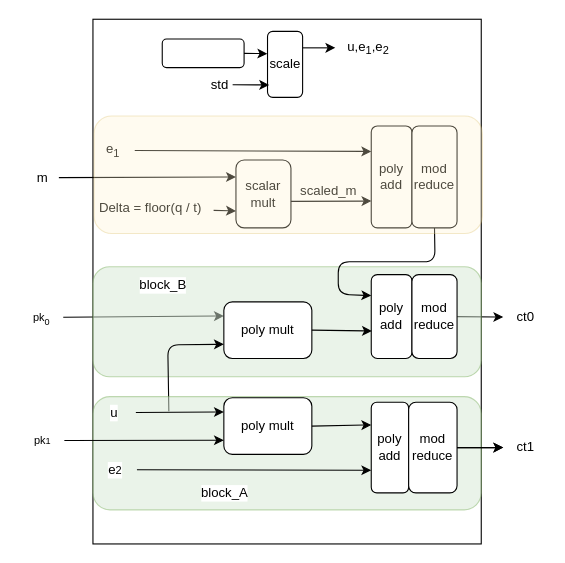
Image size: 565x563. Some labels were removed from this diagram. The shapes that lost their labels are listed below. From the top down, each one's centre as x and y in pixels, then its label:
the point at 202,53: noise generator
the point at 287,174: block_D
